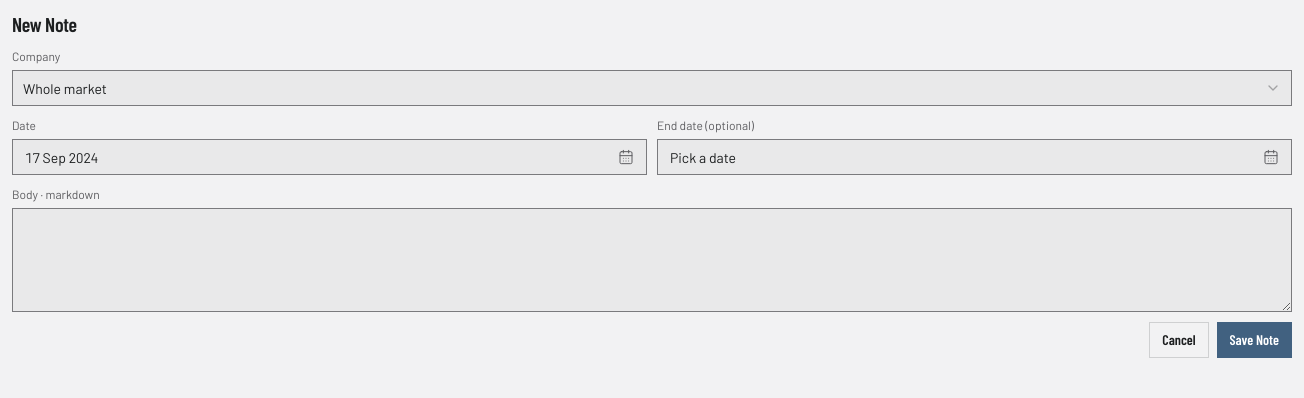
Test: Note form › blocks an empty body and says what to do
Click the button "Save Note".
click(1254, 340)  # box [1216, 322, 1292, 358]
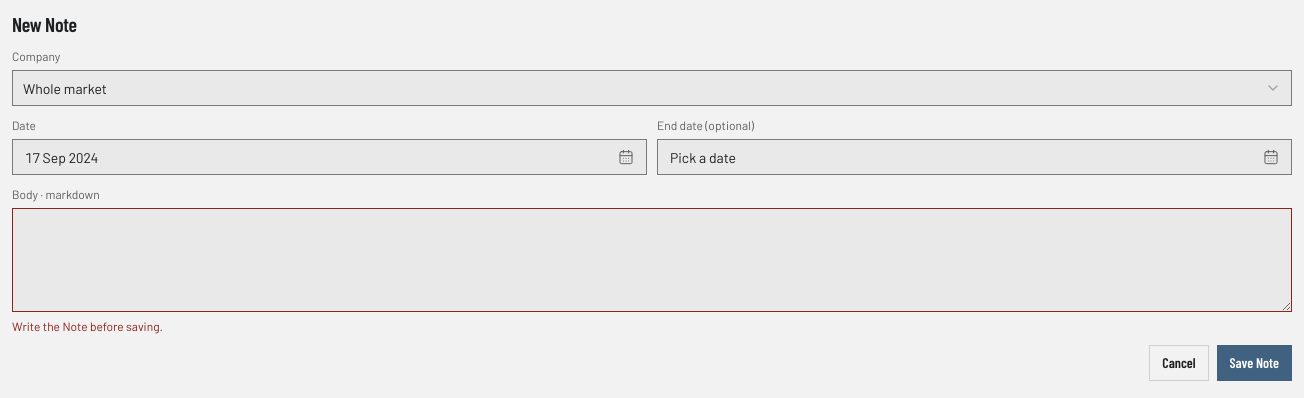
Check: the text "Write the Note before saving." is shown, box [12, 319, 163, 333]
